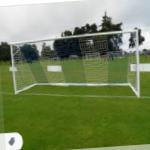goals: (10, 28, 143, 100)
